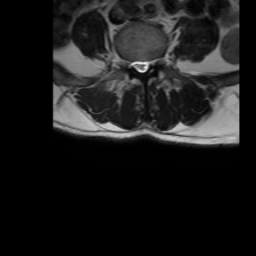CCS_stenosis: (139, 53, 144, 78)
LFS_normal: (150, 53, 157, 71)
LLS_normal: (144, 54, 150, 74)
RFS_normal: (126, 53, 133, 74)
RLS_normal: (133, 54, 139, 76)
